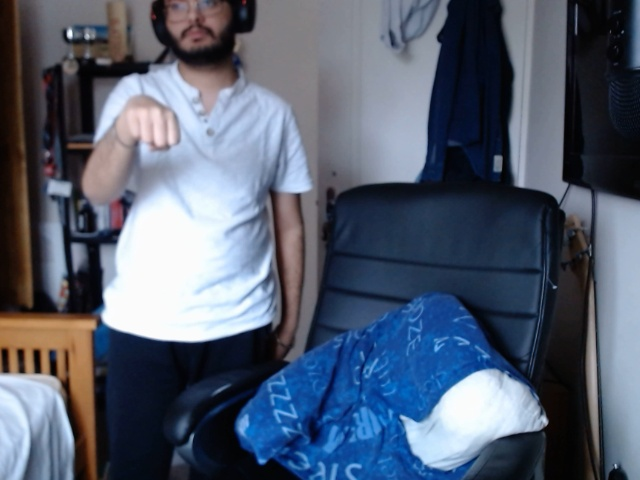Yes: (116, 86, 194, 157)
